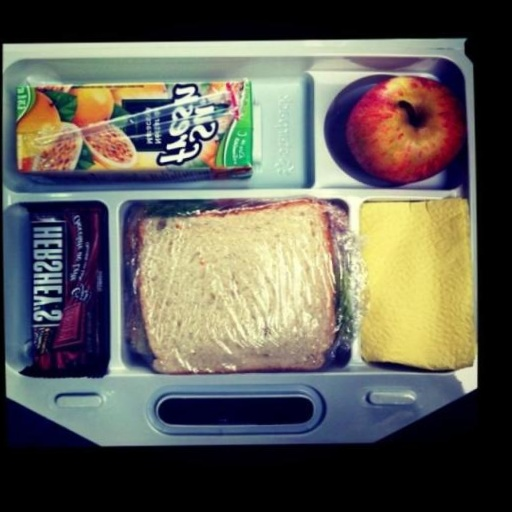fruit: (346, 77, 465, 183), (32, 122, 81, 170), (84, 125, 136, 168), (16, 92, 59, 133), (70, 87, 113, 127), (110, 84, 166, 104), (198, 139, 218, 167)
